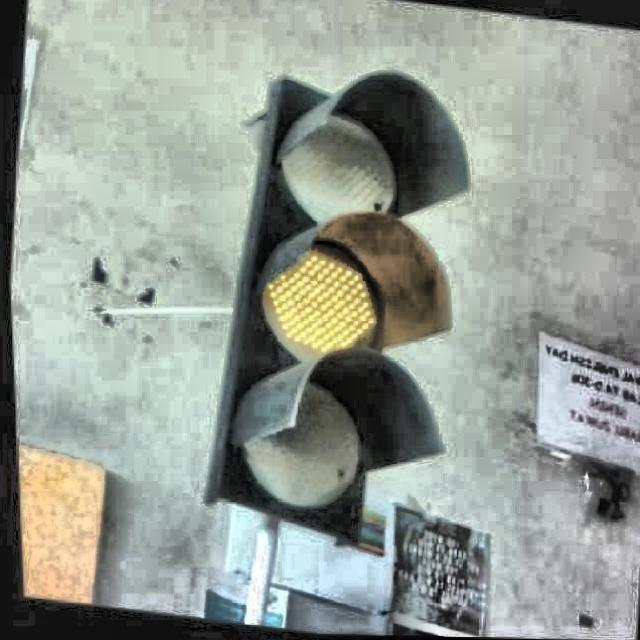yellow: (228, 95, 437, 515)
